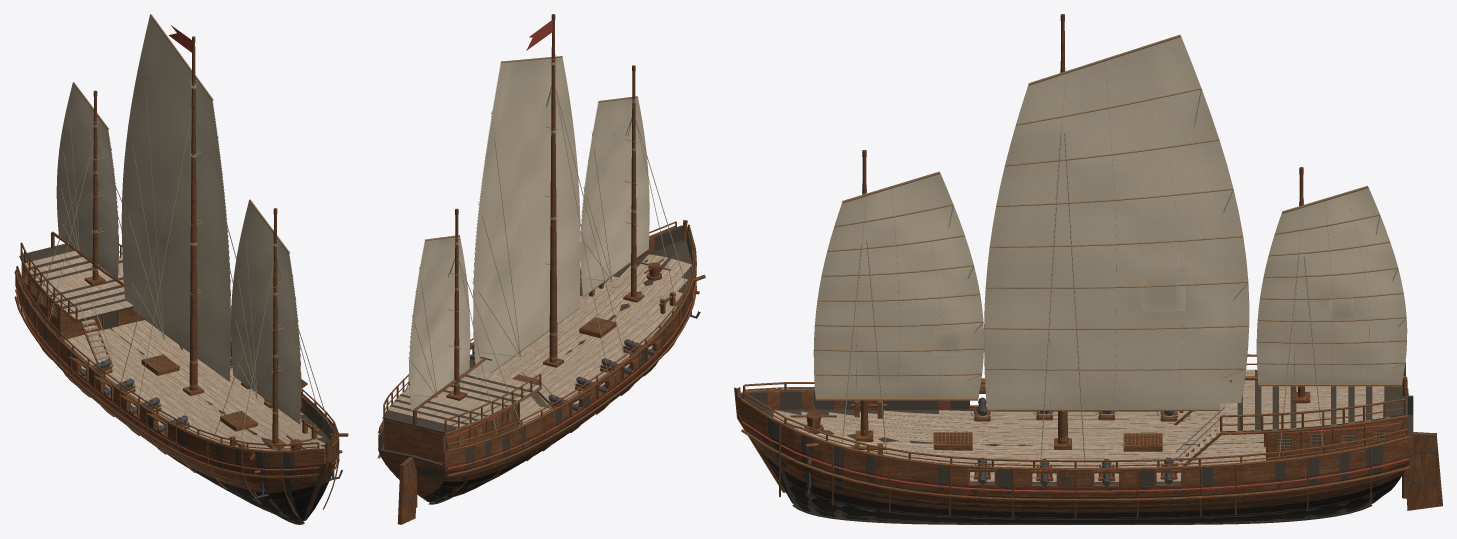
The model's file is fuchuan-lod2.glb.
3 views of the same model, side by side, from view 1: azimuth 30°, elevation 25°; view 2: azimuth 150°, elevation 25°; view 3: azimuth 270°, elevation 25° (orthographic). The views are drawn at different scales.
Visible parts, largest first — view 1: sail_1, deck, hull, sail_0, sail_2, shadow_hull, deck_fittings, bulwark_rails, mast_timber_1, shadow_deck, sterncastle, mast_timber_0 (+6 smaller); view 2: sail_1, deck, sail_0, hull, sail_2, shadow_hull, sterncastle, deck_fittings, bulwark_rails, mast_timber_1, shadow_deck, mast_timber_0 (+6 smaller); view 3: sail_1, hull, sail_0, sail_2, deck, shadow_hull, bulwark_rails, deck_fittings, shadow_deck, rudder_blade, sterncastle, rigging_1.
Boxes of the visible parts, left/top/right/bottom form: sail_1: left=121, top=14, right=231, bottom=381; deck: left=19, top=251, right=325, bottom=450; hull: left=14, top=270, right=339, bottom=524; sail_0: left=231, top=199, right=301, bottom=424; sail_2: left=56, top=82, right=118, bottom=278; shadow_hull: left=15, top=270, right=337, bottom=522; deck_fittings: left=21, top=262, right=348, bottom=498; bulwark_rails: left=16, top=242, right=338, bottom=453; mast_timber_1: left=189, top=43, right=197, bottom=390; shadow_deck: left=21, top=243, right=133, bottom=322; sterncastle: left=23, top=266, right=144, bottom=339; mast_timber_0: left=272, top=214, right=278, bottom=443; sail_1: left=472, top=56, right=580, bottom=378; deck: left=382, top=254, right=691, bottom=435; sail_0: left=580, top=96, right=649, bottom=297; hull: left=377, top=219, right=696, bottom=504; sail_2: left=408, top=235, right=470, bottom=411; shadow_hull: left=378, top=225, right=694, bottom=502; sterncastle: left=384, top=404, right=519, bottom=463; deck_fittings: left=384, top=258, right=705, bottom=450; bulwark_rails: left=379, top=221, right=695, bottom=450; mast_timber_1: left=549, top=20, right=557, bottom=362; shadow_deck: left=383, top=374, right=541, bottom=434; mast_timber_0: left=631, top=71, right=636, bottom=297; sail_1: left=984, top=34, right=1249, bottom=411; hull: left=734, top=387, right=1413, bottom=524; sail_0: left=813, top=171, right=983, bottom=400; sail_2: left=1256, top=185, right=1407, bottom=386; deck: left=773, top=369, right=1407, bottom=481; shadow_hull: left=737, top=390, right=1413, bottom=523; bulwark_rails: left=743, top=354, right=1408, bottom=467; deck_fittings: left=790, top=392, right=1403, bottom=494; shadow_deck: left=1220, top=369, right=1406, bottom=431; rudder_blade: left=1406, top=432, right=1442, bottom=510; sterncastle: left=1266, top=380, right=1407, bottom=460; rigging_1: left=1040, top=132, right=1085, bottom=465.
Bounding box in the file's own units: 10.4 × 26.66 × 33.58.
Materials: 11 (6 with a texture image).
